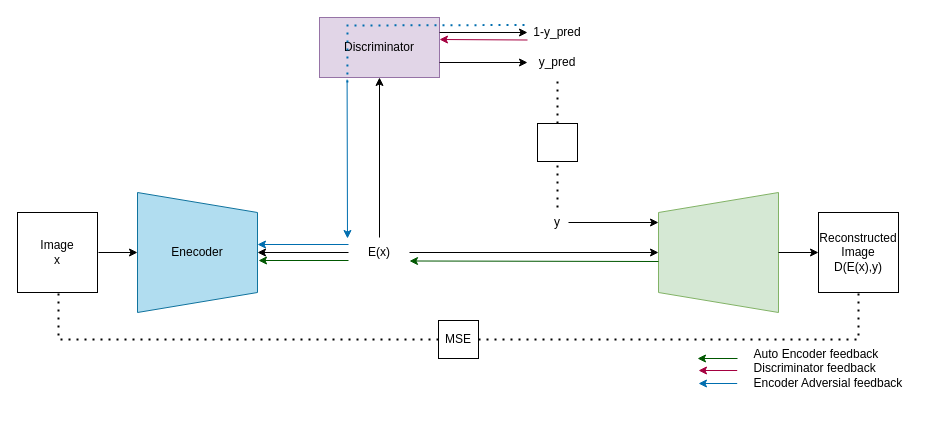
This 946x422 diagram has some shape labels left out. The box of each missing label's shape, as (x1, y1, x2, y2) in pixels:
BCE: (536, 122, 578, 162)
Decoder: (658, 192, 778, 312)
